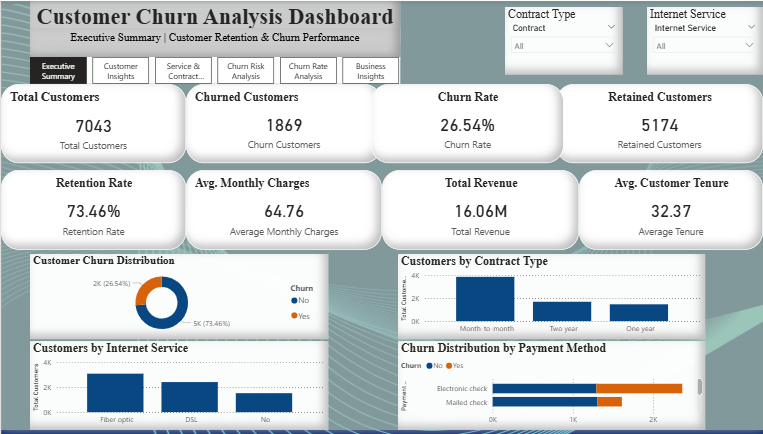

What the dashboard file says about the page in this screenshot:
{"tool":"powerbi","page":{"name":"Executive Summary","canvas":[1280,720],"ordinal":0},"visuals":[{"type":"textbox","box":[48.7,0,621.5,72.2],"z":0},{"type":"textbox","box":[48.7,45.4,621.5,53.8],"z":1000},{"type":"slicer","title":"Contract Type","fields":{"Values":["Customer_Churn.Contract"]},"box":[846.6,10.1,198.2,114.2],"z":2000},{"type":"slicer","title":"Internet Service","fields":{"Values":["Customer_Churn.Internet Service"]},"box":[1085.1,10.1,194.9,114.2],"z":3000},{"type":"card","title":"Total Customers","fields":{"Values":["Customer_Churn.Total Customers"]},"box":[0,139.4,310.8,132.7],"z":4000},{"type":"card","title":"Churned Customers","fields":{"Values":["Customer_Churn.Churn Customers"]},"box":[310.8,139.4,329.2,132.7],"z":5000},{"type":"card","title":"Retained Customers","fields":{"Values":["Customer_Churn.Retained Customers"]},"box":[932.3,139.4,347.7,132.7],"z":6000},{"type":"card","title":"Churn Rate","fields":{"Values":["Customer_Churn.Churn Rate"]},"box":[621.5,139.4,324.2,132.7],"z":7000},{"type":"card","title":"Retention Rate","fields":{"Values":["Customer_Churn.Retention Rate"]},"box":[0,283.9,310.8,134.4],"z":8000},{"type":"card","title":"Avg. Monthly Charges","fields":{"Values":["Customer_Churn.Average Monthly Charges"]},"box":[310.8,283.9,329.2,134.4],"z":9000},{"type":"card","title":"Avg. Customer Tenure","fields":{"Values":["Customer_Churn.Average Tenure"]},"box":[970.9,283.9,309.1,134.4],"z":10000},{"type":"card","title":"Total Revenue","fields":{"Values":["Customer_Churn.Total Revenue"]},"box":[640,283.9,330.9,134.4],"z":11000},{"type":"donutChart","title":"Customer Churn Distribution","fields":{"Category":["Customer_Churn.Churn"],"Y":["Customer_Churn.Total Customers"]},"box":[48.7,425,500.6,142.8],"z":12000},{"type":"clusteredColumnChart","title":"Customers by Contract Type","fields":{"Category":["Customer_Churn.Contract"],"Y":["Customer_Churn.Total Customers"]},"box":[666.9,425,515.7,142.8],"z":13000},{"type":"clusteredColumnChart","title":"Customers by Internet Service","fields":{"Category":["Customer_Churn.Internet Service"],"Y":["Customer_Churn.Total Customers"]},"box":[48.7,571.1,500.6,149.5],"z":14000},{"type":"barChart","title":"Churn Distribution by Payment Method","fields":{"Category":["Customer_Churn.Payment Method"],"Y":["Customer_Churn.Total Customers"],"Series":["Customer_Churn.Churn"]},"box":[666.9,571.1,515.7,149.5],"z":15000},{"type":"pageNavigator","box":[48.7,94.1,621.5,45.4],"z":16000}]}

Visuals, with their boxes in screenshot pixels (x1, y1, x2, y2), scaled from the page's 1280x720 canvas onto the 763x434 screenshot:
textbox: box(29, 0, 400, 44)
textbox: box(29, 27, 400, 60)
"Contract Type" slicer: box(505, 6, 623, 75)
"Internet Service" slicer: box(647, 6, 762, 75)
"Total Customers" card: box(0, 84, 185, 164)
"Churned Customers" card: box(185, 84, 382, 164)
"Retained Customers" card: box(556, 84, 762, 164)
"Churn Rate" card: box(370, 84, 564, 164)
"Retention Rate" card: box(0, 171, 185, 252)
"Avg. Monthly Charges" card: box(185, 171, 382, 252)
"Avg. Customer Tenure" card: box(579, 171, 762, 252)
"Total Revenue" card: box(382, 171, 579, 252)
"Customer Churn Distribution" donutChart: box(29, 256, 327, 342)
"Customers by Contract Type" clusteredColumnChart: box(398, 256, 705, 342)
"Customers by Internet Service" clusteredColumnChart: box(29, 344, 327, 433)
"Churn Distribution by Payment Method" barChart: box(398, 344, 705, 433)
pageNavigator: box(29, 57, 400, 84)
